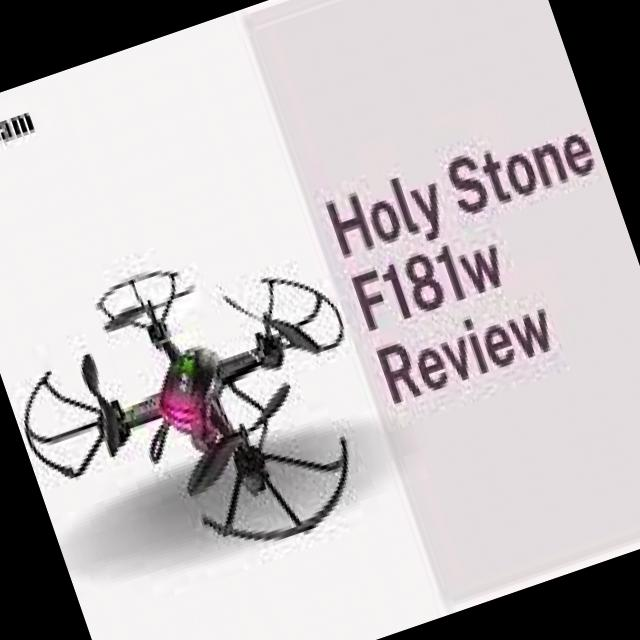drone: (0, 206, 403, 611)
